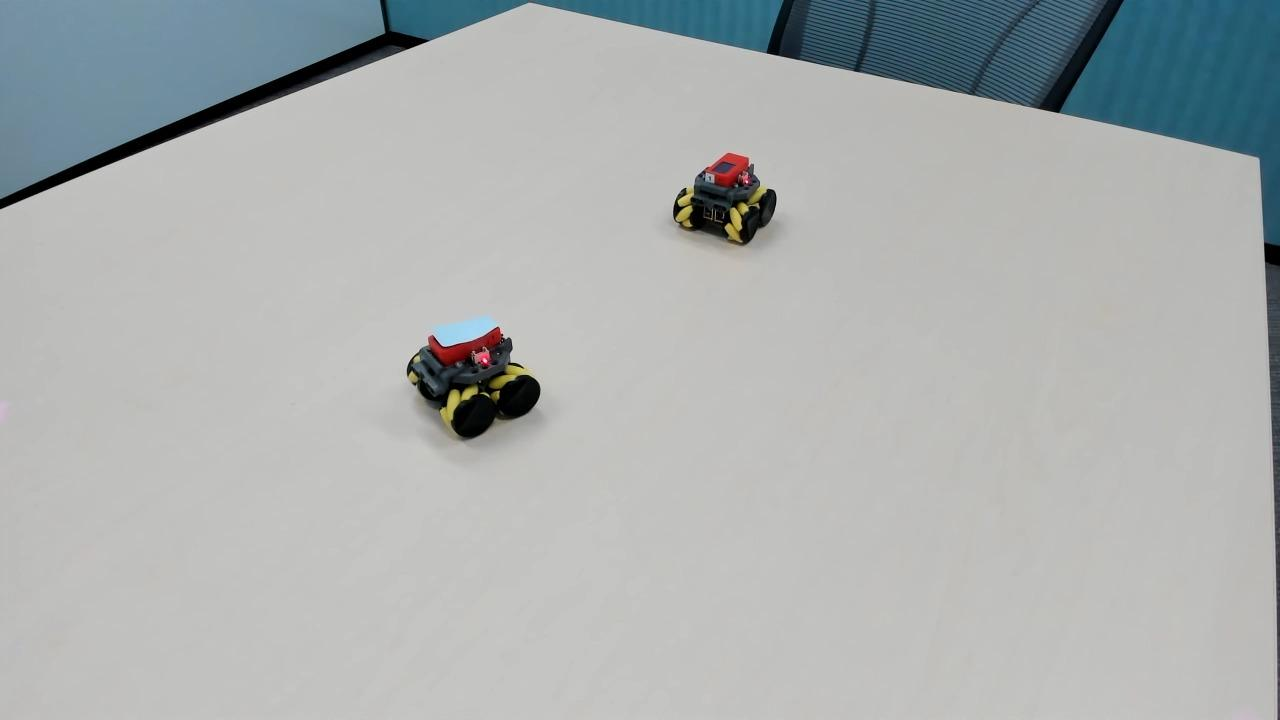B-Robot: (404, 306, 559, 451)
R-Robot: (659, 135, 793, 251)
